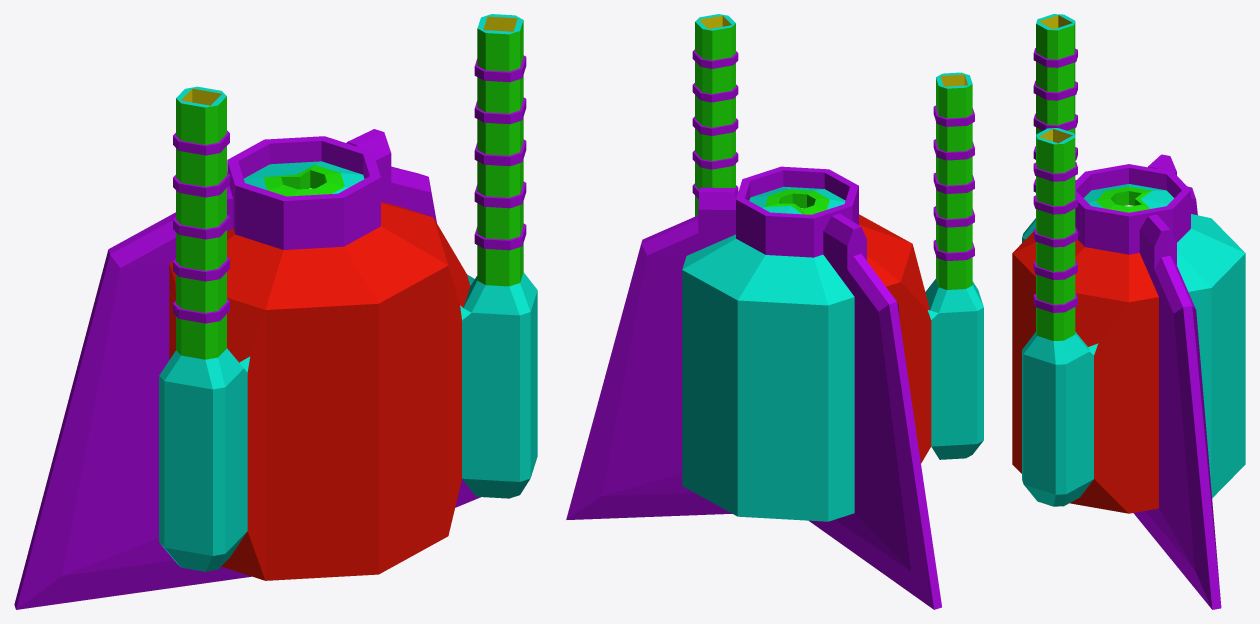
The model's file is ihavebiblestudywithmygirlfriendat8Iwanttogotobed.fbx.
The picture shows the model from 3 angles, left to right: view 1: azimuth 30°, elevation 25°; view 2: azimuth 150°, elevation 25°; view 3: azimuth 270°, elevation 25°; orthographic projection. The views are drawn at different scales.
Parts seen in each view (by area): view 1: Cylinder; view 2: Cylinder; view 3: Cylinder.
Part boxes in pixels (bbox=[...]): Cylinder: bbox=[14, 14, 537, 609]; Cylinder: bbox=[566, 14, 983, 609]; Cylinder: bbox=[1012, 14, 1245, 609].
Size of the model in its own units: 200 by 418 by 363.
